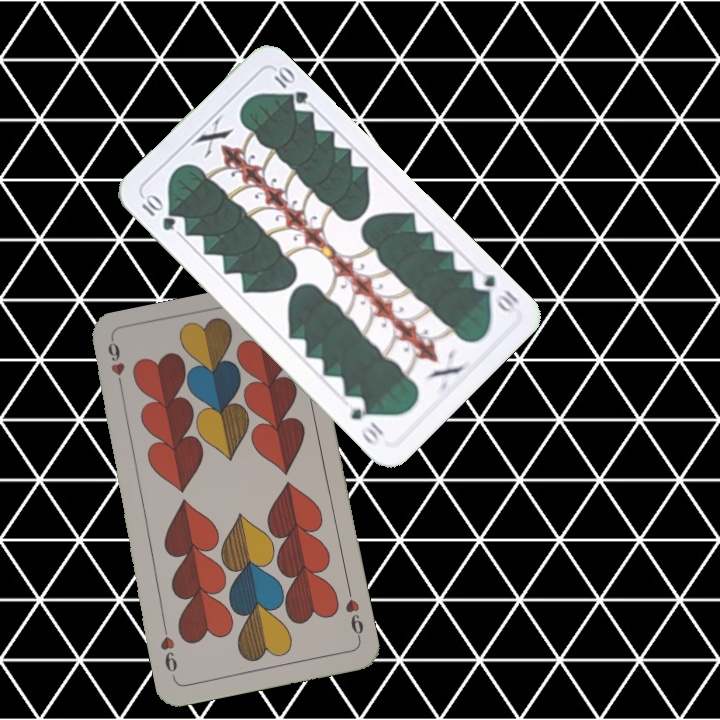G10: (468, 266, 522, 317), (137, 190, 179, 234)
H9: (341, 585, 366, 643), (103, 337, 127, 396)
